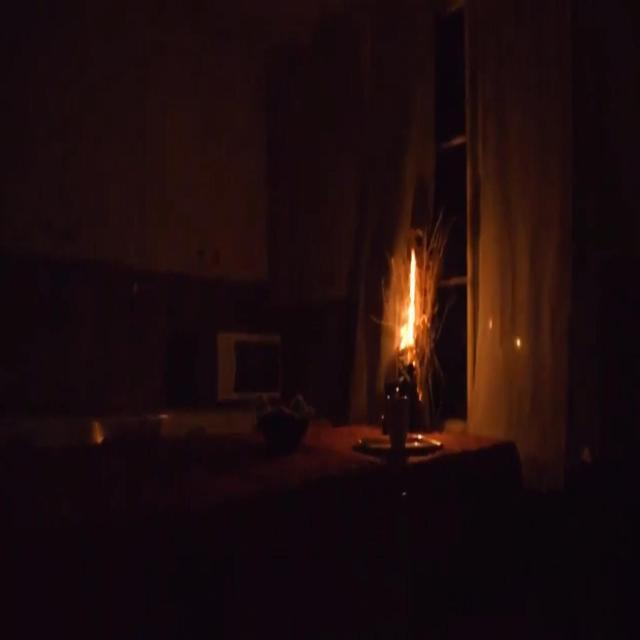smoke: (395, 238, 420, 355)
